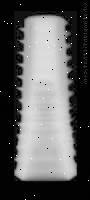AGS Medikal: (10, 10, 77, 181)
